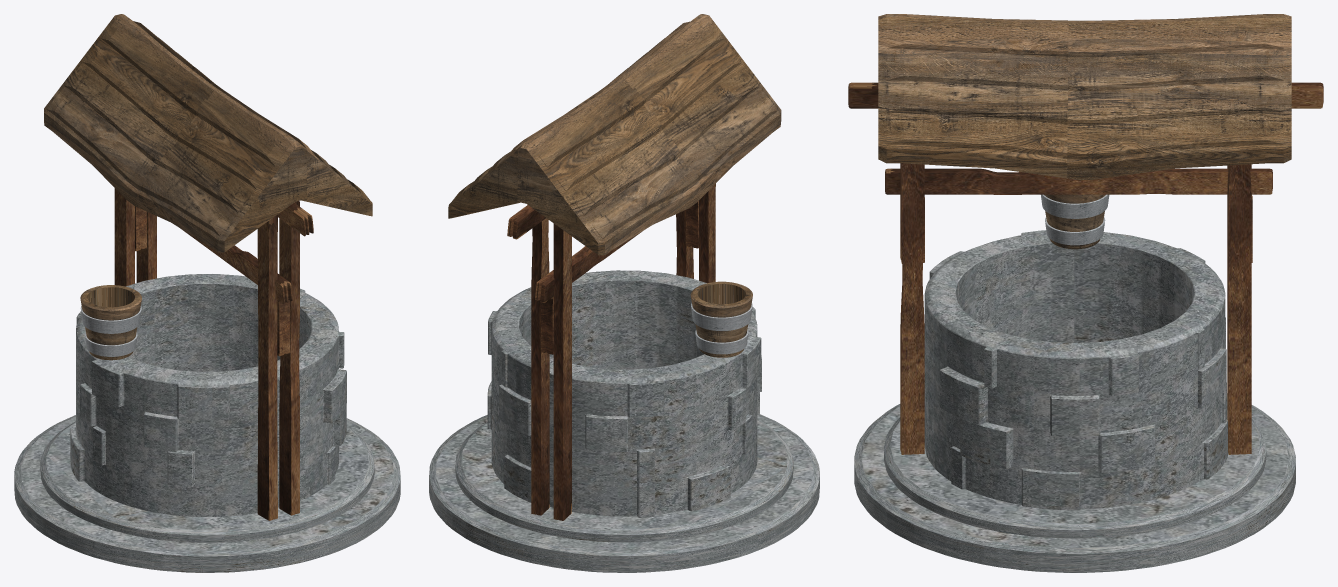
Rendered from Poco (n vai cedilha).fbx.
3 views of the same model, side by side, from view 1: azimuth 30°, elevation 25°; view 2: azimuth 150°, elevation 25°; view 3: azimuth 270°, elevation 25° (orthographic). The views are drawn at different scales.
Parts seen in each view (by area): view 1: Cylinder.023, Cube.011, Cylinder.022, Cube.049, Cylinder.024, Cylinder.026, Cylinder.025; view 2: Cylinder.023, Cube.011, Cylinder.022, Cube.049, Cylinder.024, Cylinder.026, Cylinder.025; view 3: Cylinder.023, Cube.011, Cylinder.022, Cube.049, Cylinder.024, Cylinder.026, Cylinder.025.
Boxes of the visible parts, left/top/right/bottom form: Cylinder.023: left=70, top=274, right=346, bottom=516; Cube.011: left=44, top=14, right=372, bottom=252; Cylinder.022: left=14, top=415, right=400, bottom=572; Cube.049: left=114, top=188, right=313, bottom=520; Cylinder.024: left=80, top=285, right=141, bottom=360; Cylinder.026: left=80, top=306, right=141, bottom=333; Cylinder.025: left=85, top=332, right=137, bottom=356; Cylinder.023: left=487, top=270, right=761, bottom=517; Cube.011: left=448, top=14, right=781, bottom=255; Cylinder.022: left=429, top=414, right=819, bottom=572; Cube.049: left=507, top=183, right=715, bottom=520; Cylinder.024: left=690, top=281, right=752, bottom=357; Cylinder.026: left=691, top=303, right=752, bottom=330; Cylinder.025: left=695, top=329, right=748, bottom=354; Cylinder.023: left=924, top=230, right=1227, bottom=510; Cube.011: left=878, top=14, right=1291, bottom=179; Cylinder.022: left=854, top=393, right=1295, bottom=572; Cube.049: left=848, top=82, right=1323, bottom=454; Cylinder.024: left=1044, top=194, right=1105, bottom=249; Cylinder.026: left=1041, top=194, right=1109, bottom=218; Cylinder.025: left=1045, top=217, right=1105, bottom=245.
Bounding box in the file's own units: 312 × 365 × 336.
4 materials, 4 textured.
